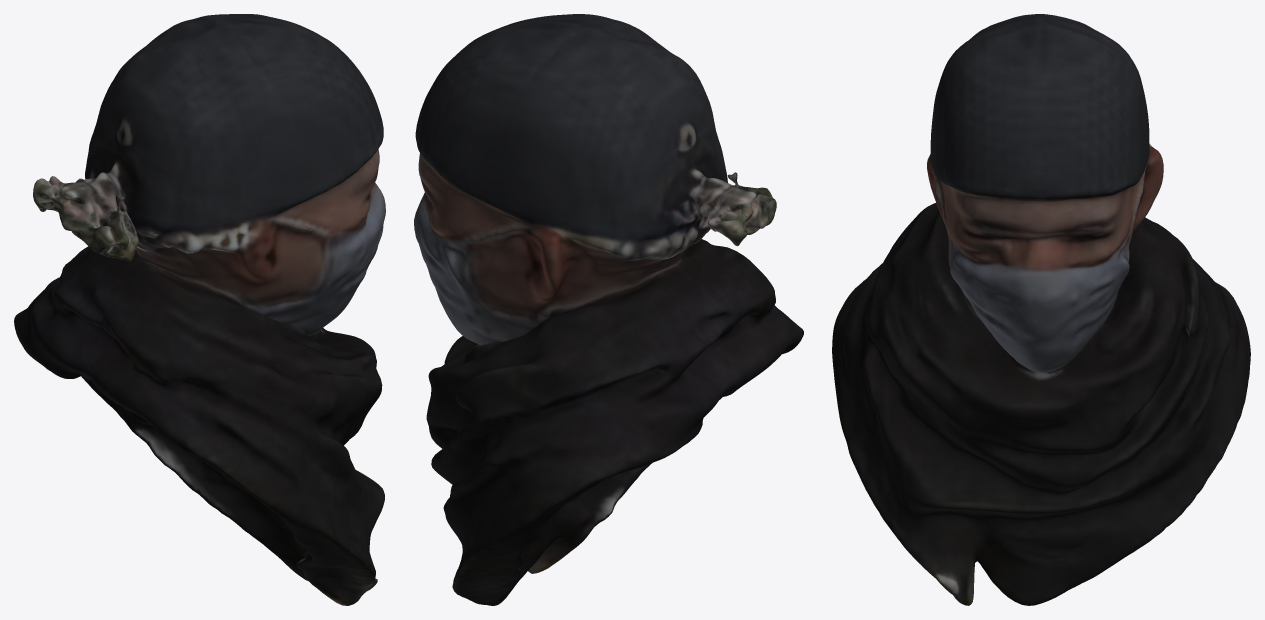
File: Голова.glb
3 renders of one model, left to right at view 1: azimuth 30°, elevation 25°; view 2: azimuth 150°, elevation 25°; view 3: azimuth 270°, elevation 25°, orthographic. The views are drawn at different scales.
Visible parts, largest first — view 1: world; view 2: world; view 3: world.
Part boxes in pixels (<box>): world: <box>14,14,385,605</box>; world: <box>414,14,803,605</box>; world: <box>832,14,1250,605</box>.
Size of the model in its own units: 0.3407 by 0.5713 by 0.3992.
Materials: 1 (1 with a texture image).
